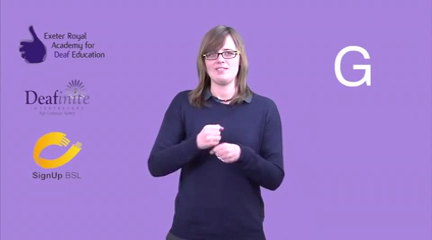G: (198, 122, 241, 167)
